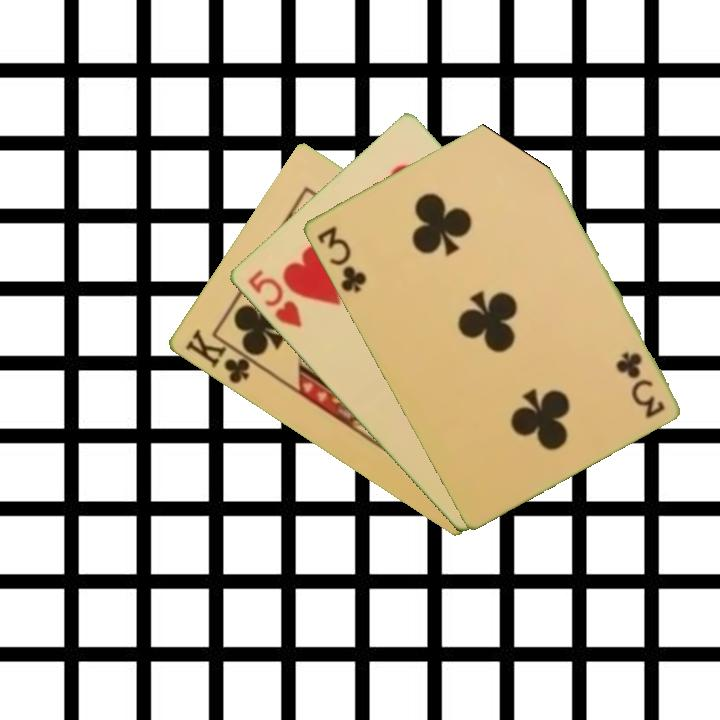3c: (313, 222, 369, 296), (614, 348, 667, 421)
5h: (244, 266, 304, 331)
Kc: (181, 325, 262, 387)
